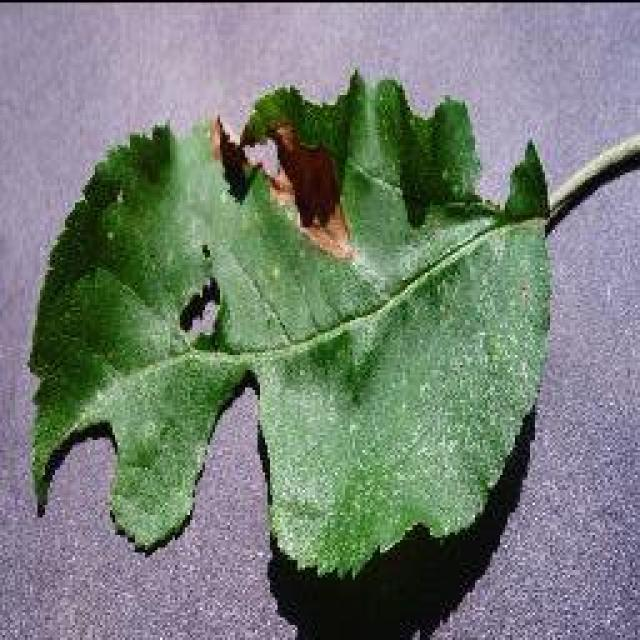Black_rot: (25, 65, 637, 580)
